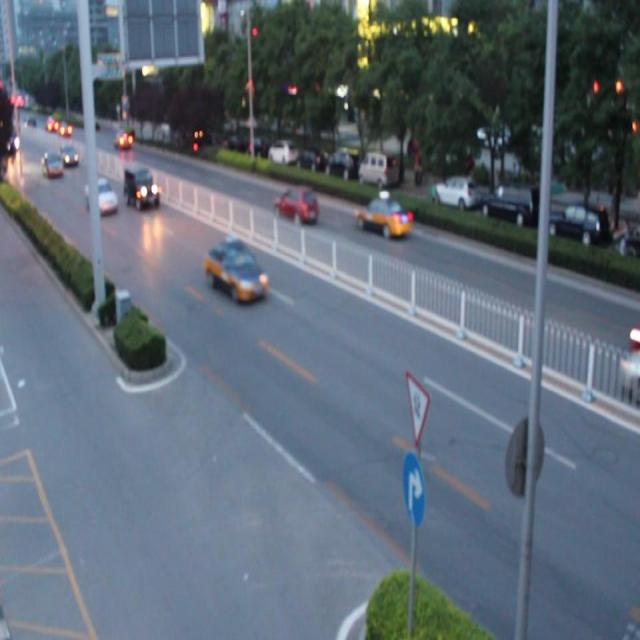car: (208, 242, 265, 302), (359, 199, 408, 235), (276, 189, 317, 225), (125, 168, 158, 204), (88, 181, 118, 212)
